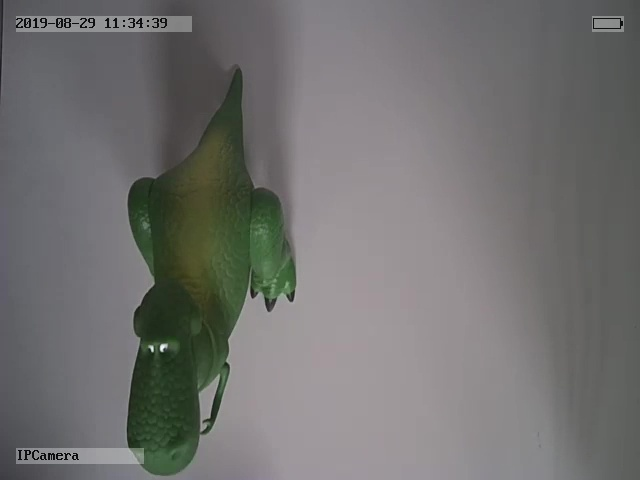rex: (127, 68, 298, 473)
